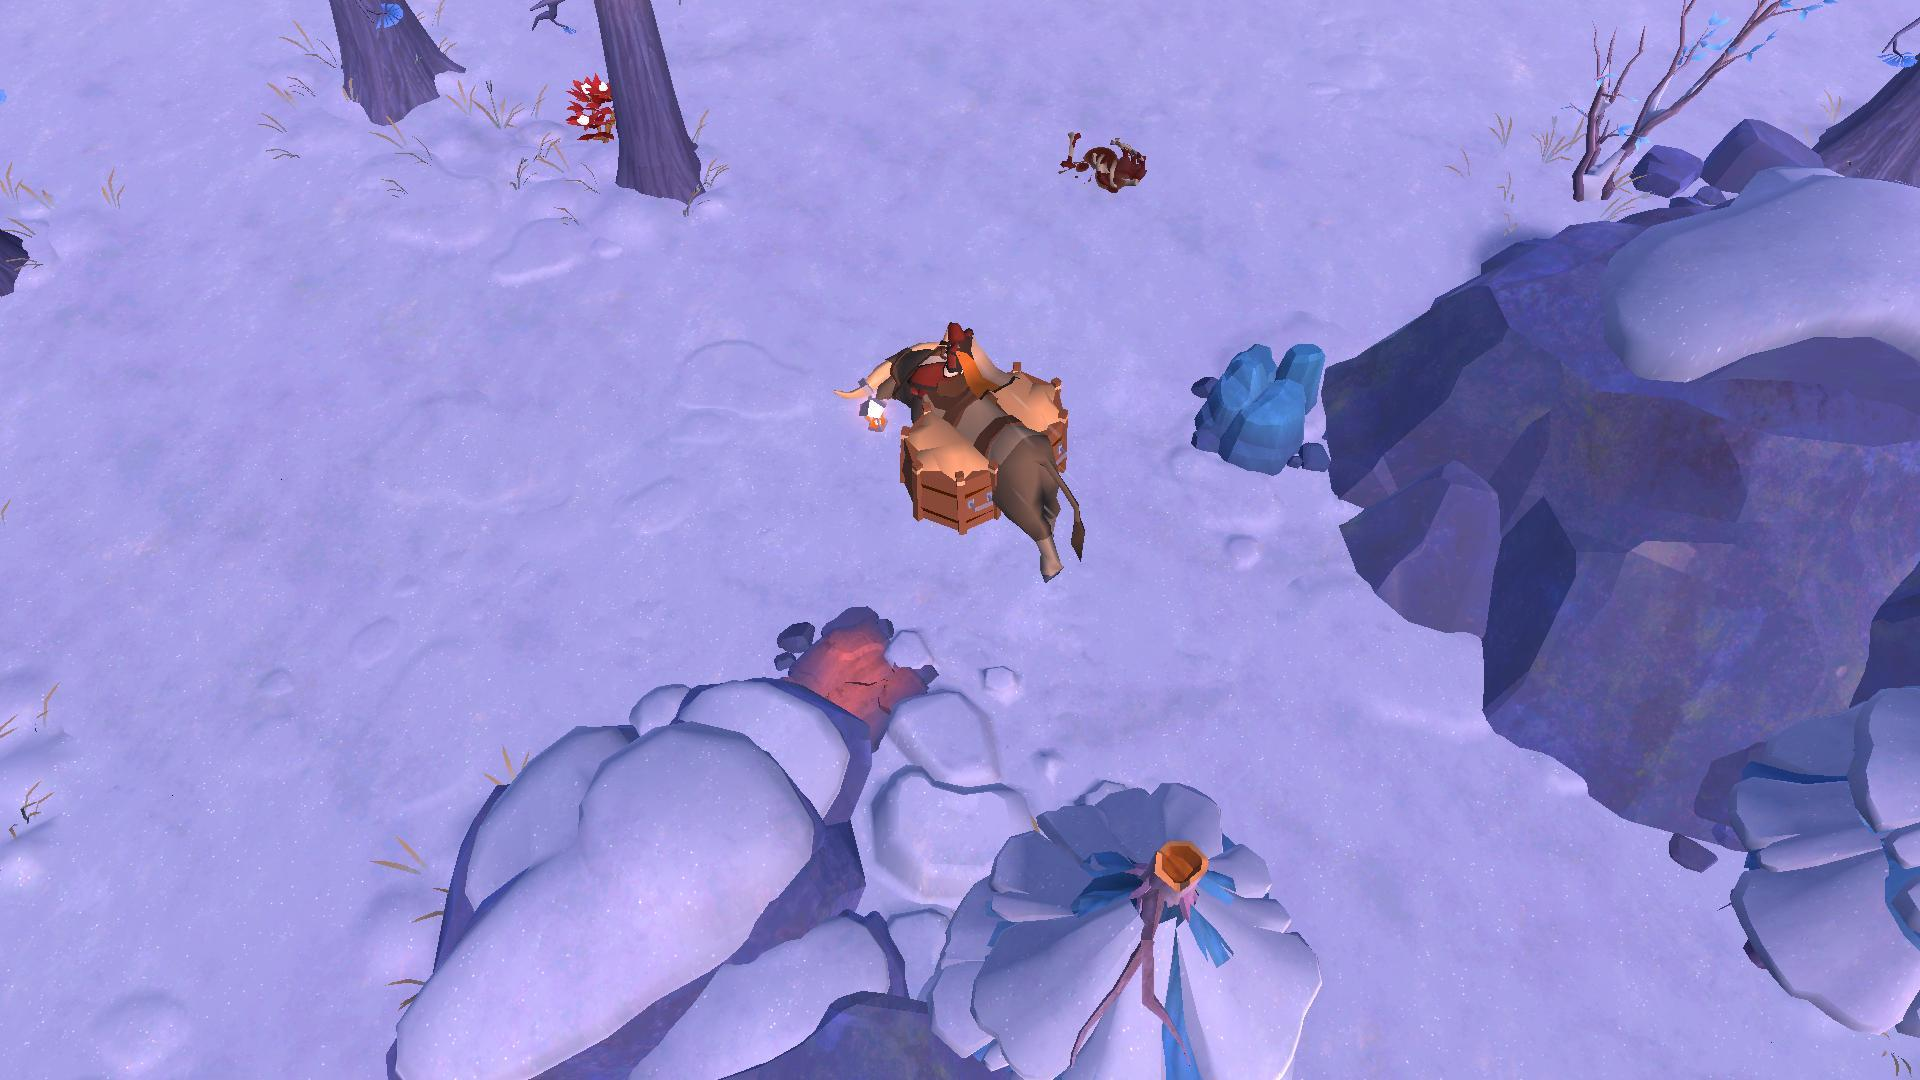fiber_t5: (559, 73, 620, 145)
rock_t4: (1180, 336, 1324, 476)
